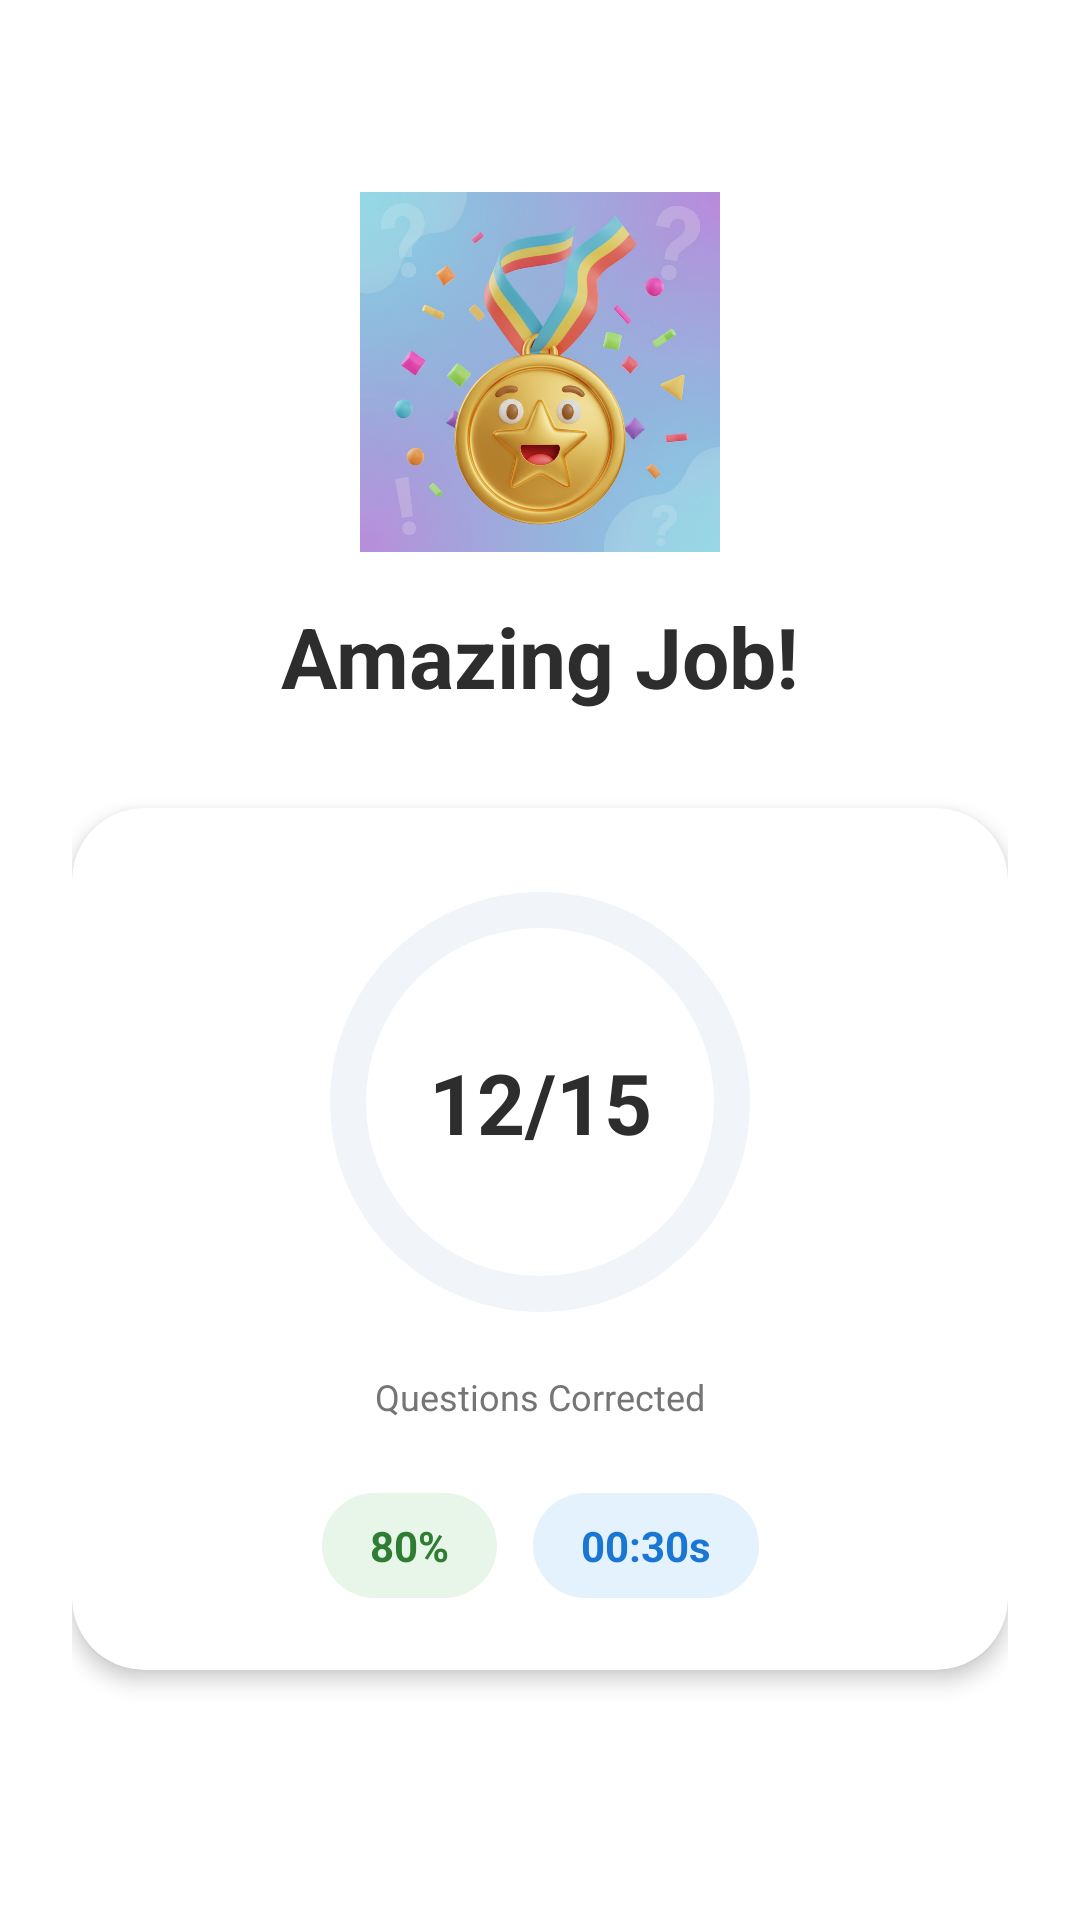

Screen size 1080×1920. Icon name, then its center in pixels as (x=x, y=y):
resultphoto: (x=540, y=372)
